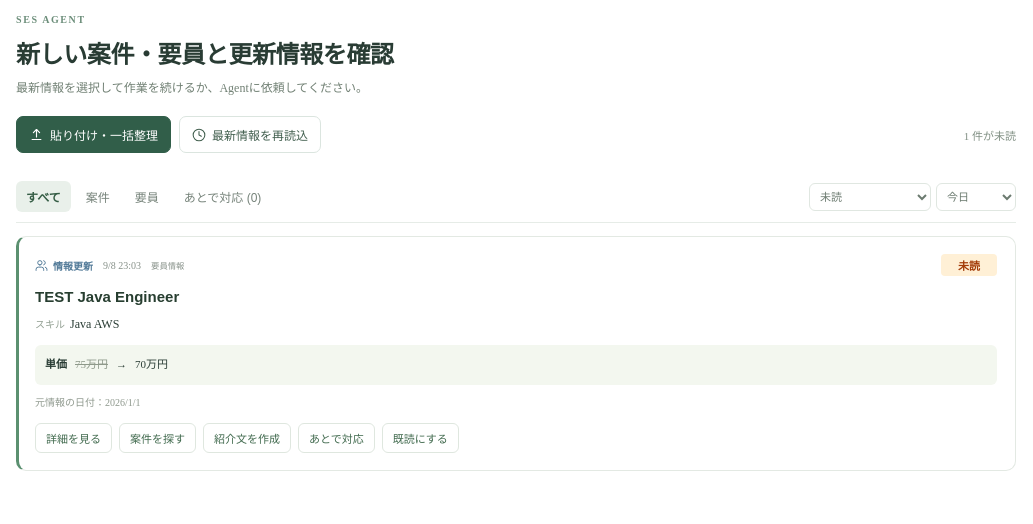
Test: latest business information › shows changes and original source date, then opens the exact selected record
Expected: the button "TEST Java Engineer" is shown, [35,288,179,305]
Expected: the text "75万円" is shown, [75,356,108,374]
Click the button "紹介文を作成".
click(247, 438)  # box [203,423,291,453]
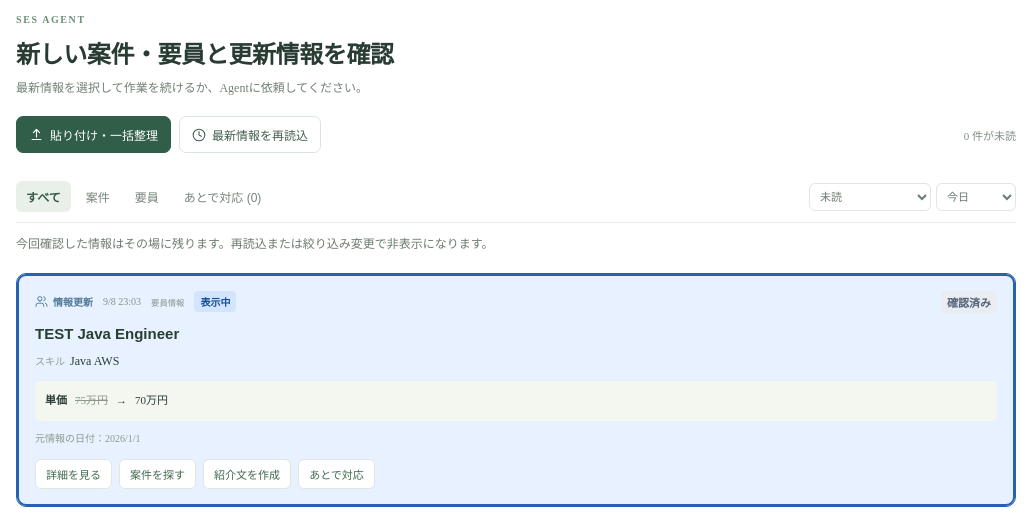
Expected: the text "確認済み" is shown, [941,291,997,313]
